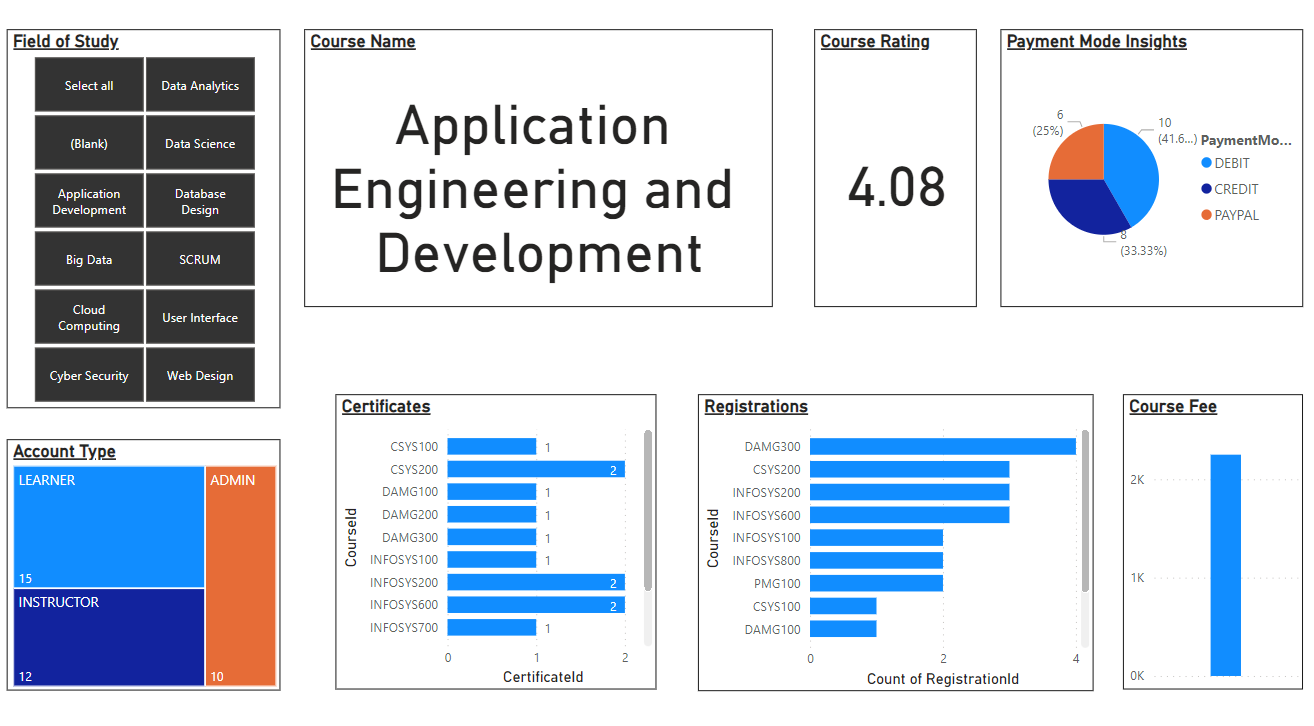

This screenshot's page, from the dashboard's own definition file:
{"tool":"powerbi","page":{"name":"Page 5","canvas":[1280,720],"ordinal":0},"visuals":[{"type":"slicer","title":"Field of Study","fields":{"Values":["INSTRUCTOR.FieldOfStudy"]},"box":[12.8,39.6,264.1,365.4],"z":0},{"type":"card","title":"Course Name","fields":{"Values":["Min(COURSE.CourseName)"]},"box":[300.6,39.9,452,268],"z":1000},{"type":"columnChart","title":"Course Fee","fields":{"Y":["Sum(COURSE.CourseFees)"]},"box":[1090.3,392.1,173.4,285.1],"z":2000},{"type":"card","title":"Course Rating","fields":{"Values":["Avg(COURSE_RATING.Rating)"]},"box":[792.4,39.6,157.1,267.6],"z":3000},{"type":"pieChart","title":"Payment Mode Insights","fields":{"Category":["INVOICE.PaymentMode"],"Y":["CountNonNull(INVOICE.InvoiceId)"]},"box":[971.6,39.6,292.1,267.6],"z":4000},{"type":"clusteredBarChart","title":"Registrations","fields":{"Category":["REGISTRATION.CourseId"],"Y":["Count(REGISTRATION.RegistrationId)"]},"box":[680.7,392.1,381.7,286.3],"z":5000},{"type":"treemap","title":"Account Type","fields":{"Group":["USER_ACCOUNT.AccountType"],"Values":["CountNonNull(USER_ACCOUNT.AccountId)"]},"box":[12.8,435.2,264.1,242],"z":6000},{"type":"clusteredBarChart","title":"Certificates","fields":{"Category":["CERTIFICATE.CourseId","CERTIFICATE.CompletedOn.Variation.Date Hierarchy.Month"],"Y":["CountNonNull(CERTIFICATE.CertificateId)"]},"box":[330.5,392.1,309.5,285.1],"z":7000}]}

Visuals, with their boxes in screenshot pixels (x1, y1, x2, y2), scaled from the page's 1280x720 canvas onto the 1314x726 screenshot:
"Field of Study" slicer: left=13, top=40, right=284, bottom=408
"Course Name" card: left=309, top=40, right=773, bottom=310
"Course Fee" columnChart: left=1119, top=395, right=1297, bottom=683
"Course Rating" card: left=813, top=40, right=975, bottom=310
"Payment Mode Insights" pieChart: left=997, top=40, right=1297, bottom=310
"Registrations" clusteredBarChart: left=699, top=395, right=1091, bottom=684
"Account Type" treemap: left=13, top=439, right=284, bottom=683
"Certificates" clusteredBarChart: left=339, top=395, right=657, bottom=683
